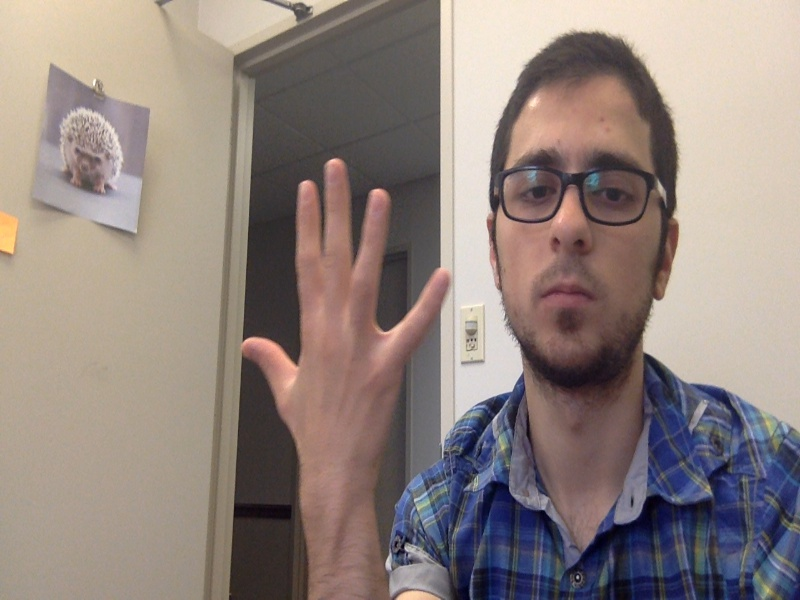5-hand: (237, 158, 450, 465)
